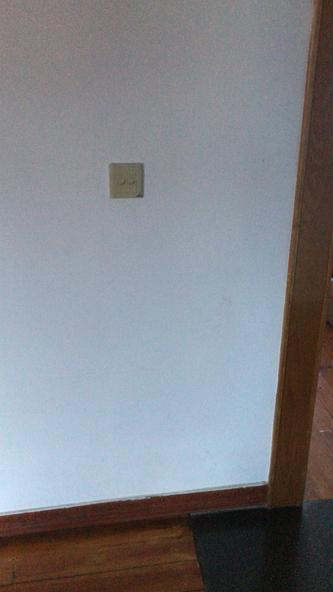switch: (128, 175, 139, 186), (117, 176, 127, 186)
